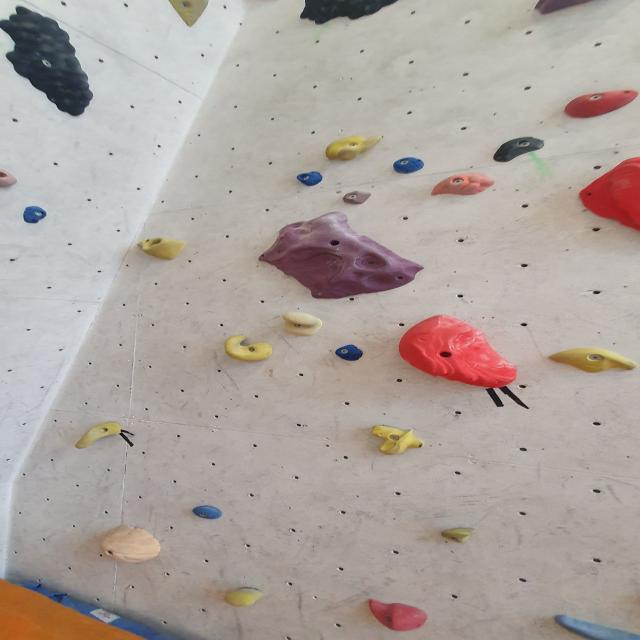Crimp: (253, 212, 427, 304), (543, 343, 640, 377), (558, 89, 640, 123), (545, 612, 640, 640), (427, 170, 498, 198), (437, 526, 476, 549), (389, 156, 428, 177), (332, 344, 367, 363), (292, 170, 326, 188), (20, 205, 50, 225), (341, 190, 374, 208), (192, 506, 224, 522)
Jug: (1, 2, 104, 119), (360, 421, 424, 459), (70, 422, 127, 452), (0, 168, 20, 190)
Pinch: (575, 155, 640, 234), (323, 134, 376, 164)
Pocket: (136, 235, 188, 262)
Sloper: (392, 313, 522, 387), (100, 522, 164, 564), (361, 598, 431, 634), (219, 334, 275, 364), (162, 0, 215, 28), (281, 310, 326, 338), (222, 586, 264, 610)
